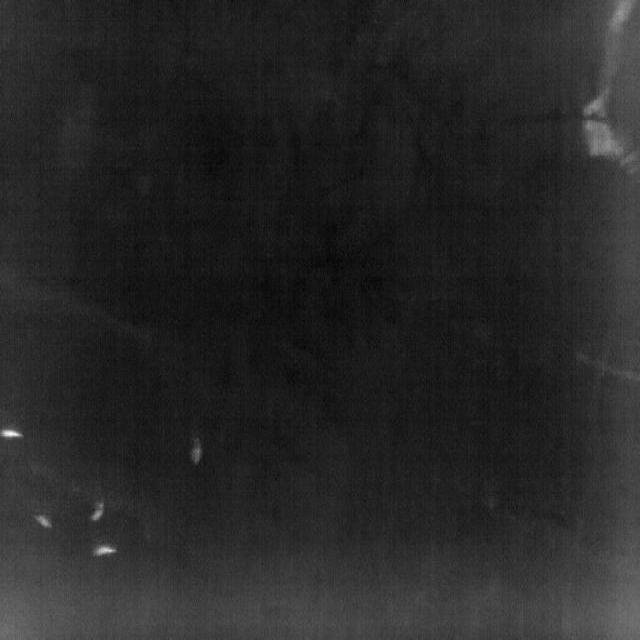deer: (190, 433, 203, 467), (91, 544, 120, 558), (0, 427, 26, 441), (88, 502, 105, 521), (33, 514, 52, 529)
